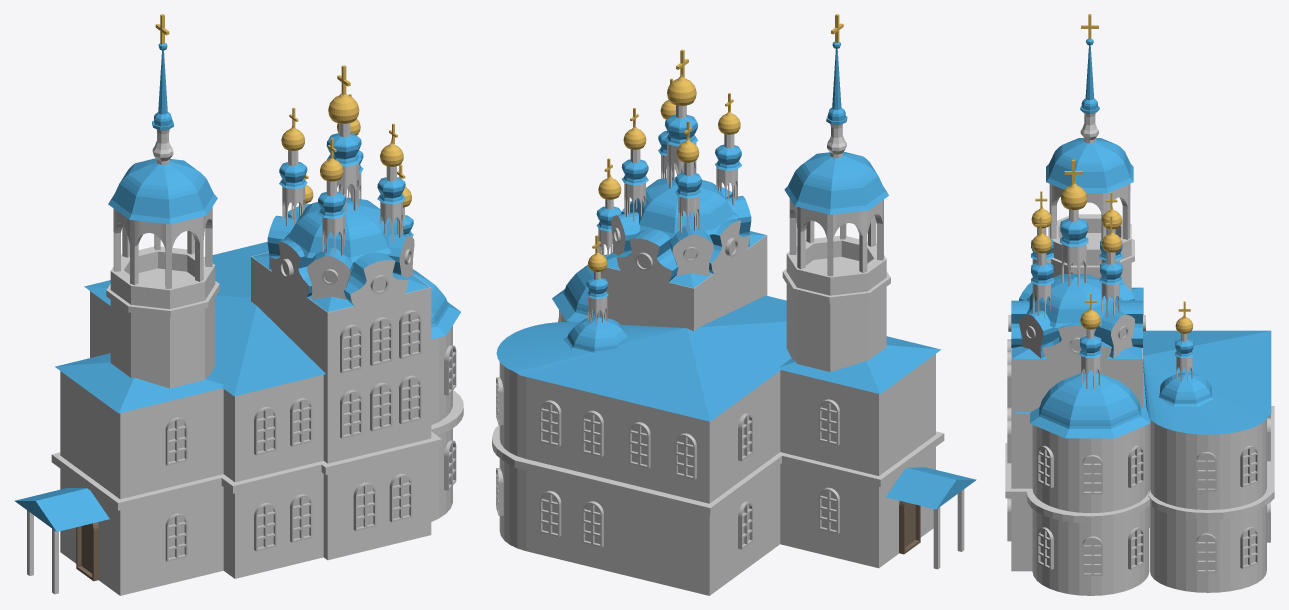
The model's file is uspenskiy.glb.
3 renders of one model, left to right at view 1: azimuth 30°, elevation 25°; view 2: azimuth 150°, elevation 25°; view 3: azimuth 270°, elevation 25°, orthographic. The views are drawn at different scales.
Parts seen in each view (by area): view 1: Cylinder.032, Cylinder.036, Cube.009, Cylinder.042, Cube.010, Cylinder.003, Cube.011, Cube.051, Cube.004, Cylinder.013, Cube.008, Cube.007 (+6 smaller); view 2: Cylinder.032, Cube.009, Cylinder.036, Cylinder.042, Cube.011, Cube.010, Cylinder.003, Cube.051, Cylinder.013, Cube.004, Cylinder.029, Cube.007 (+7 smaller); view 3: Cylinder.032, Cube.009, Cylinder.036, Cylinder.002, Cylinder.042, Cube.011, Cylinder.003, Cylinder.013, Cylinder.029, Cube.008, Cube.007, Cube.004 (+4 smaller).
Part boxes in pixels (bbox=[...]): Cylinder.032: bbox=[27, 123, 463, 595]; Cylinder.036: bbox=[165, 249, 456, 561]; Cube.009: bbox=[84, 242, 432, 396]; Cylinder.042: bbox=[108, 158, 217, 224]; Cube.010: bbox=[55, 353, 223, 413]; Cylinder.003: bbox=[284, 197, 403, 262]; Cube.011: bbox=[155, 14, 411, 207]; Cube.051: bbox=[14, 488, 109, 531]; Cube.004: bbox=[288, 204, 408, 306]; Cylinder.013: bbox=[317, 133, 405, 218]; Cube.008: bbox=[307, 197, 353, 299]; Cube.007: bbox=[267, 215, 414, 277]; Cylinder.032: bbox=[492, 105, 964, 595]; Cube.009: bbox=[496, 295, 791, 421]; Cylinder.036: bbox=[496, 227, 839, 549]; Cylinder.042: bbox=[784, 152, 888, 214]; Cube.011: bbox=[588, 14, 843, 272]; Cube.010: bbox=[780, 336, 940, 394]; Cylinder.003: bbox=[630, 177, 738, 238]; Cube.051: bbox=[886, 467, 976, 509]; Cylinder.013: bbox=[621, 114, 741, 185]; Cube.004: bbox=[616, 186, 732, 282]; Cylinder.029: bbox=[563, 316, 627, 352]; Cube.007: bbox=[669, 224, 713, 275]; Cylinder.032: bbox=[1005, 184, 1274, 595]; Cube.009: bbox=[1013, 330, 1271, 434]; Cylinder.036: bbox=[1007, 315, 1270, 575]; Cylinder.002: bbox=[1030, 370, 1150, 438]; Cylinder.042: bbox=[1046, 138, 1133, 192]; Cube.011: bbox=[1031, 14, 1193, 333]; Cylinder.003: bbox=[1026, 274, 1122, 327]; Cylinder.013: bbox=[1031, 218, 1122, 285]; Cylinder.029: bbox=[1159, 373, 1213, 407]; Cube.008: bbox=[1019, 282, 1135, 358]; Cube.007: bbox=[1019, 282, 1134, 358]; Cube.004: bbox=[1011, 300, 1142, 347].
Size of the model in its own units: 2.81 by 3.5 by 1.84.
